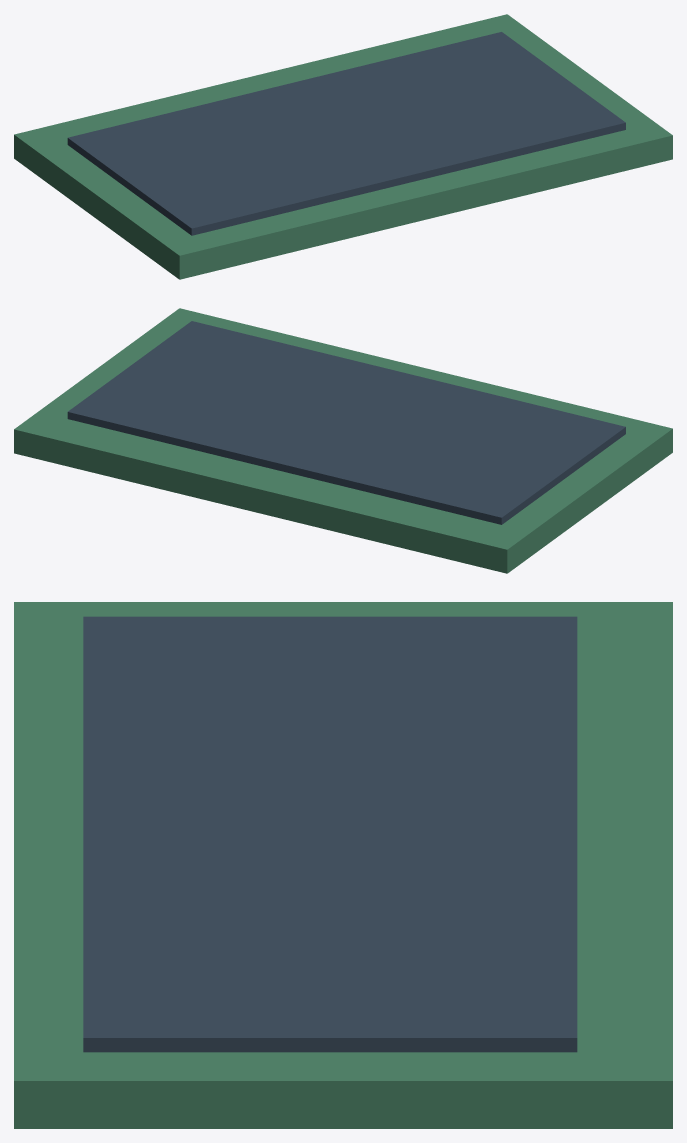
File: ili9341-28.glb
3 renders of one model, top to bottom at view 1: azimuth 30°, elevation 25°; view 2: azimuth 150°, elevation 25°; view 3: azimuth 270°, elevation 25°, orthographic. The views are drawn at different scales.
Parts seen in each view (by area): view 1: ili9341-28-display, ili9341-28-pcb; view 2: ili9341-28-display, ili9341-28-pcb; view 3: ili9341-28-display, ili9341-28-pcb.
Part boxes in pixels (<box>): ili9341-28-display: <box>67,32,625,235</box>; ili9341-28-pcb: <box>14,14,672,279</box>; ili9341-28-display: <box>67,321,625,524</box>; ili9341-28-pcb: <box>14,308,672,573</box>; ili9341-28-display: <box>83,616,577,1052</box>; ili9341-28-pcb: <box>14,602,672,1128</box>.
Size of the model in its own units: 0.086 by 0.0052 by 0.05.
